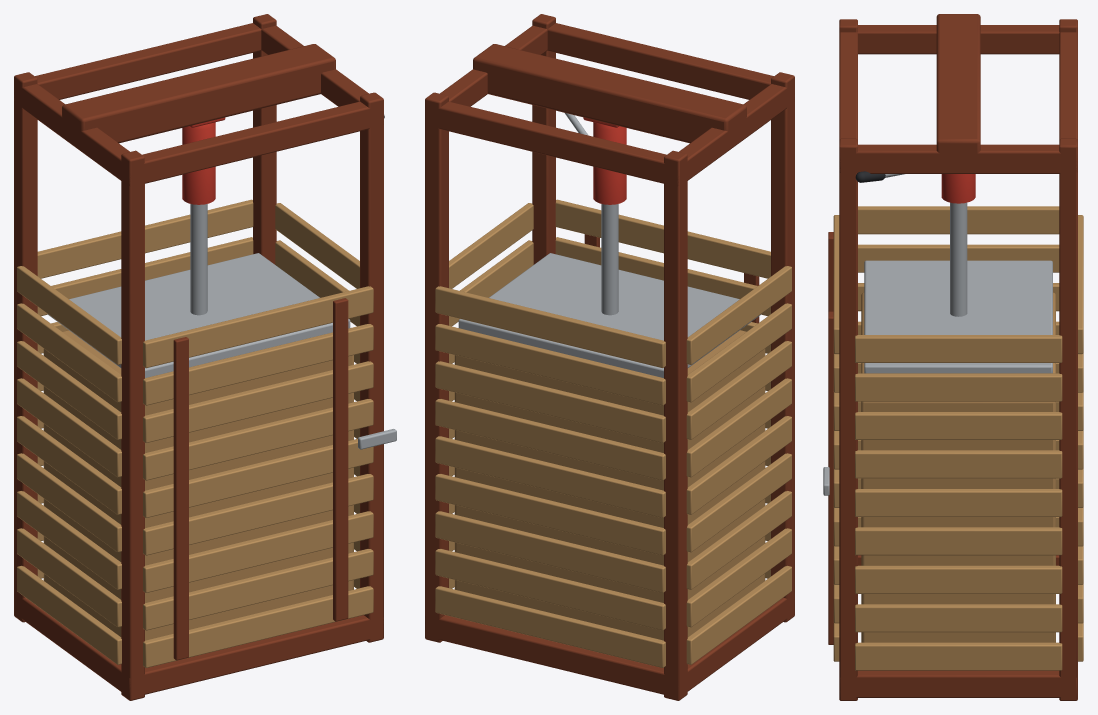
Rendered from hand_baler.fbx.
3 renders of one model, left to right at view 1: azimuth 30°, elevation 25°; view 2: azimuth 150°, elevation 25°; view 3: azimuth 270°, elevation 25°, orthographic. The views are drawn at different scales.
Visible parts, largest first — view 1: hand_baler; view 2: hand_baler; view 3: hand_baler.
Part boxes in pixels (bbox=[...]): hand_baler: bbox=[14, 14, 396, 700]; hand_baler: bbox=[425, 14, 794, 700]; hand_baler: bbox=[823, 14, 1083, 700].
Bounding box in the file's own units: 1.02 × 1.97 × 0.8275.
